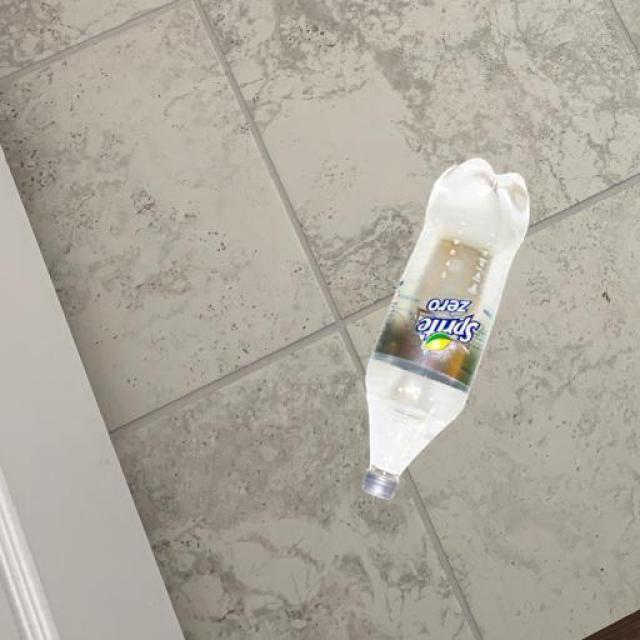bottle: (360, 155, 530, 501)
